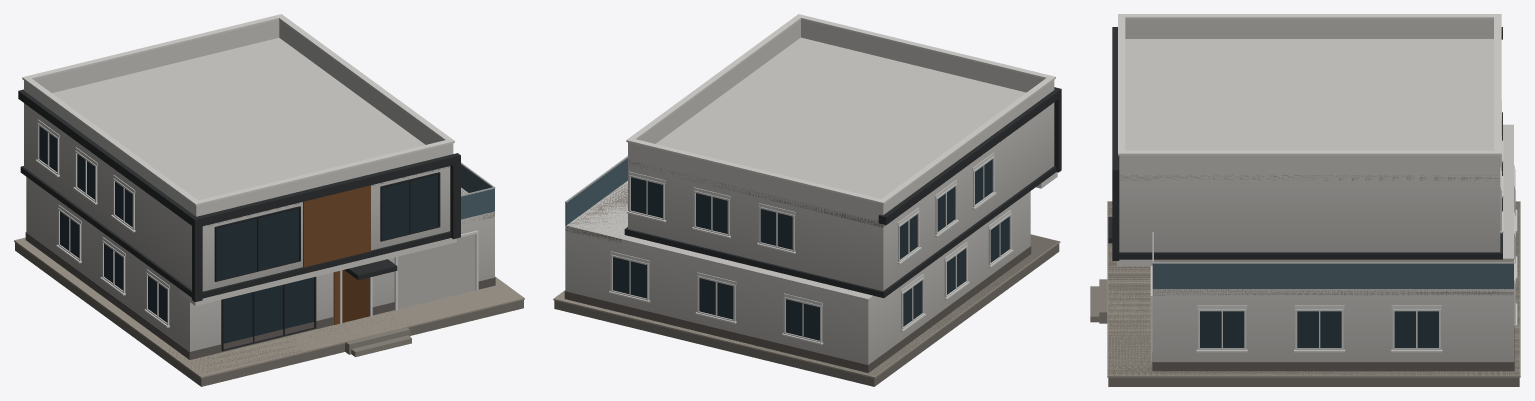
File: ns_dup1_lod1.glb
3 views of the same model, side by side, from view 1: azimuth 30°, elevation 25°; view 2: azimuth 150°, elevation 25°; view 3: azimuth 270°, elevation 25° (orthographic). The views are drawn at different scales.
Visible parts, largest first — view 1: ns_dup1_lod1; view 2: ns_dup1_lod1; view 3: ns_dup1_lod1.
Part boxes in pixels (x1=…): ns_dup1_lod1: x1=14, y1=14, x2=524, y2=386; ns_dup1_lod1: x1=553, y1=14, x2=1061, y2=386; ns_dup1_lod1: x1=1090, y1=14, x2=1520, y2=386.
Bounding box in the file's own units: 15.03 × 7.88 × 15.47.
